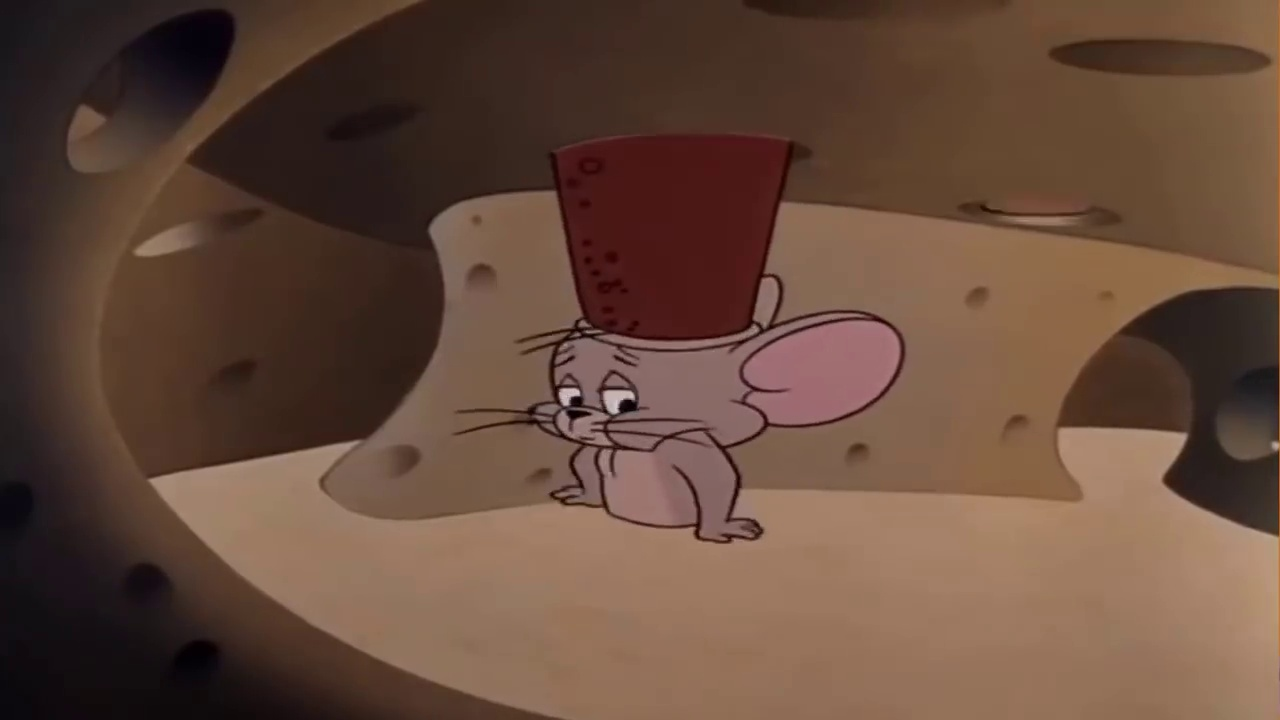face: (539, 348, 659, 449)
